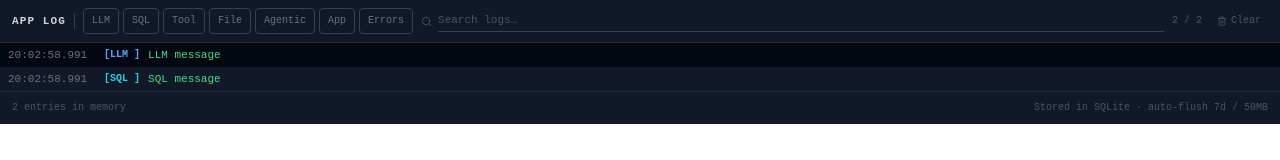
LogPanel › category filters › hides non-SQL entries when SQL filter is active
expect the text "LLM message" is shown: met, box [148,49,221,61]
expect the text "SQL message" is shown: met, box [148,73,221,85]
Note: Click SQL filter button
Click the button "SQL": (141, 21) [123,8,159,34]
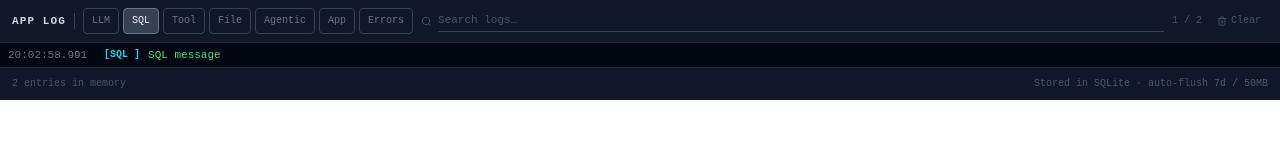
expect the text "SQL message" is shown: met, box [148,49,221,61]
expect the text "LLM message" is gone: met
